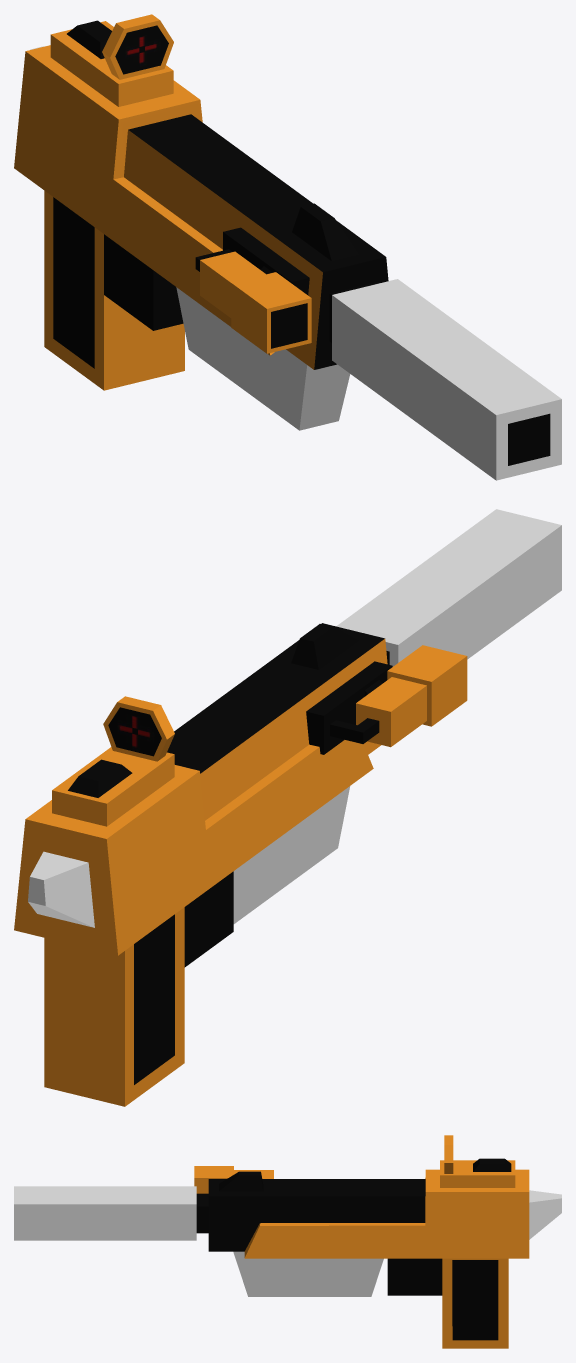
Rendered from chloro_gun.fbx.
3 views of the same model, one above another, from view 1: azimuth 30°, elevation 25°; view 2: azimuth 150°, elevation 25°; view 3: azimuth 270°, elevation 25° (orthographic). The views are drawn at different scales.
Visible parts, largest first — view 1: SA_Wep_DesertEagle, SA_Wep_DesertEagle_Silencer, SA_Wep_DesertEagle_Flashlight, SA_Wep_DesertEagle_Reddot; view 2: SA_Wep_DesertEagle, SA_Wep_DesertEagle_Silencer, SA_Wep_DesertEagle_Flashlight, SA_Wep_DesertEagle_Reddot; view 3: SA_Wep_DesertEagle, SA_Wep_DesertEagle_Silencer, SA_Wep_DesertEagle_Reddot, SA_Wep_DesertEagle_Flashlight.
Boxes of the visible parts, box(x1,y1,x2,y2) form: SA_Wep_DesertEagle: box(14, 45, 388, 430); SA_Wep_DesertEagle_Silencer: box(329, 279, 561, 480); SA_Wep_DesertEagle_Flashlight: box(195, 227, 311, 353); SA_Wep_DesertEagle_Reddot: box(50, 14, 173, 106); SA_Wep_DesertEagle: box(14, 623, 387, 1106); SA_Wep_DesertEagle_Silencer: box(336, 509, 561, 666); SA_Wep_DesertEagle_Flashlight: box(306, 645, 467, 754); SA_Wep_DesertEagle_Reddot: box(52, 696, 174, 826); SA_Wep_DesertEagle: box(208, 1169, 561, 1348); SA_Wep_DesertEagle_Silencer: box(14, 1186, 208, 1240); SA_Wep_DesertEagle_Reddot: box(440, 1135, 515, 1187); SA_Wep_DesertEagle_Flashlight: box(194, 1166, 273, 1193).
Bounding box in the file's own units: 0.2936 × 0.6514 × 1.64.
